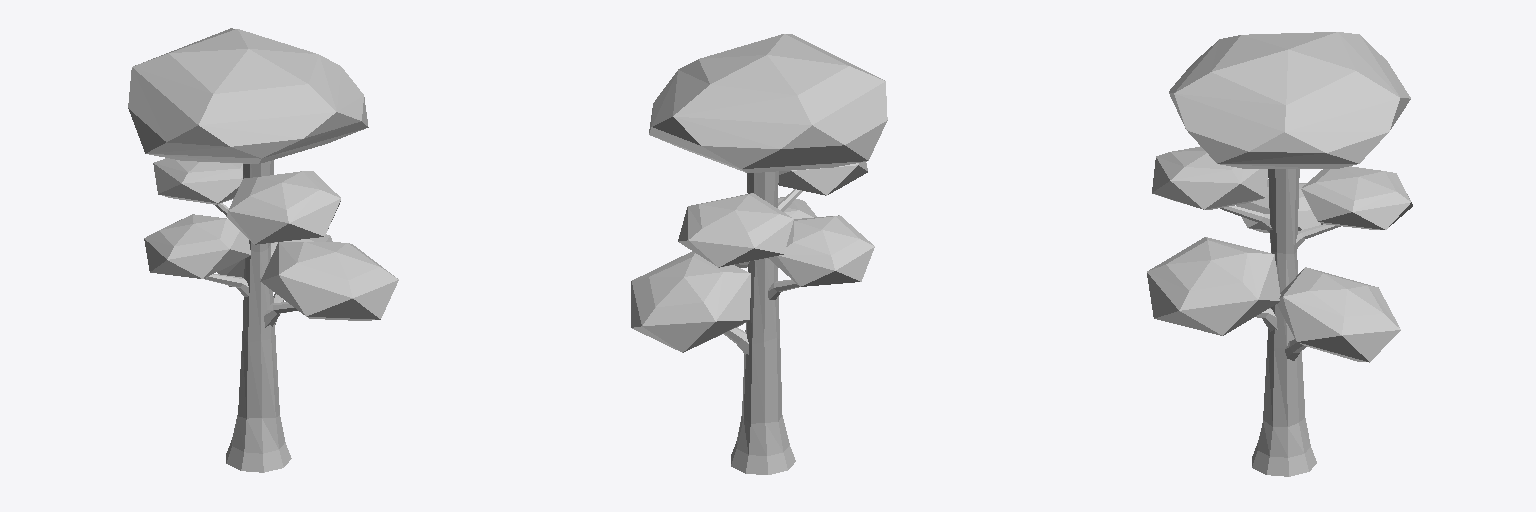
Rendered from tree2_2.obj.
3 renders of one model, left to right at view 1: azimuth 30°, elevation 25°; view 2: azimuth 150°, elevation 25°; view 3: azimuth 270°, elevation 25°, orthographic.
Parts seen in each view (by area): view 1: Icosphere.004, wood.004_Cylinder.003; view 2: Icosphere.004, wood.004_Cylinder.003; view 3: Icosphere.004, wood.004_Cylinder.003.
Boxes of the visible parts, <box> form: Icosphere.004: <box>128,28,398,320</box>; wood.004_Cylinder.003: <box>204,160,297,472</box>; Icosphere.004: <box>631,34,887,352</box>; wood.004_Cylinder.003: <box>724,171,802,474</box>; Icosphere.004: <box>1147,32,1412,362</box>; wood.004_Cylinder.003: <box>1220,169,1340,476</box>.
Bounding box in the file's own units: 1.6 × 2.96 × 1.75.